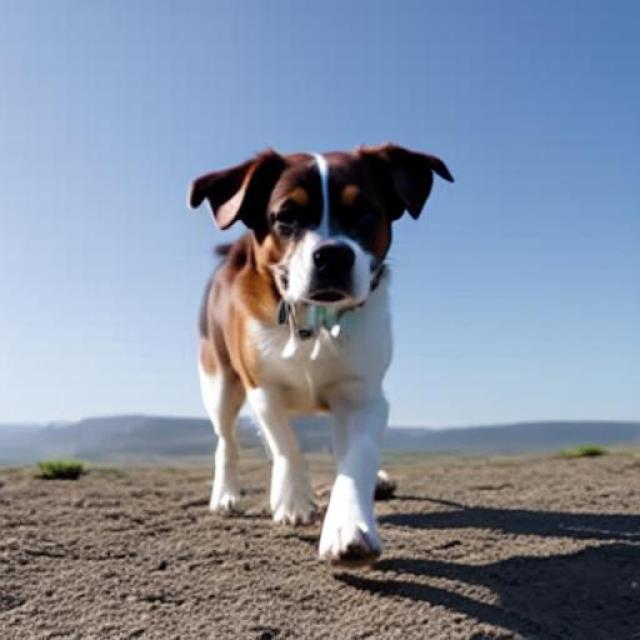Dog: (186, 142, 455, 568)
